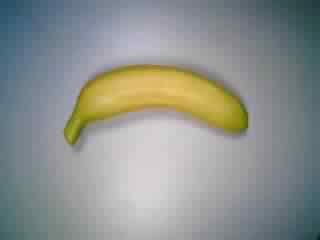banana: (63, 60, 249, 154)
